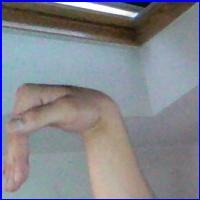del: (1, 77, 116, 195)
